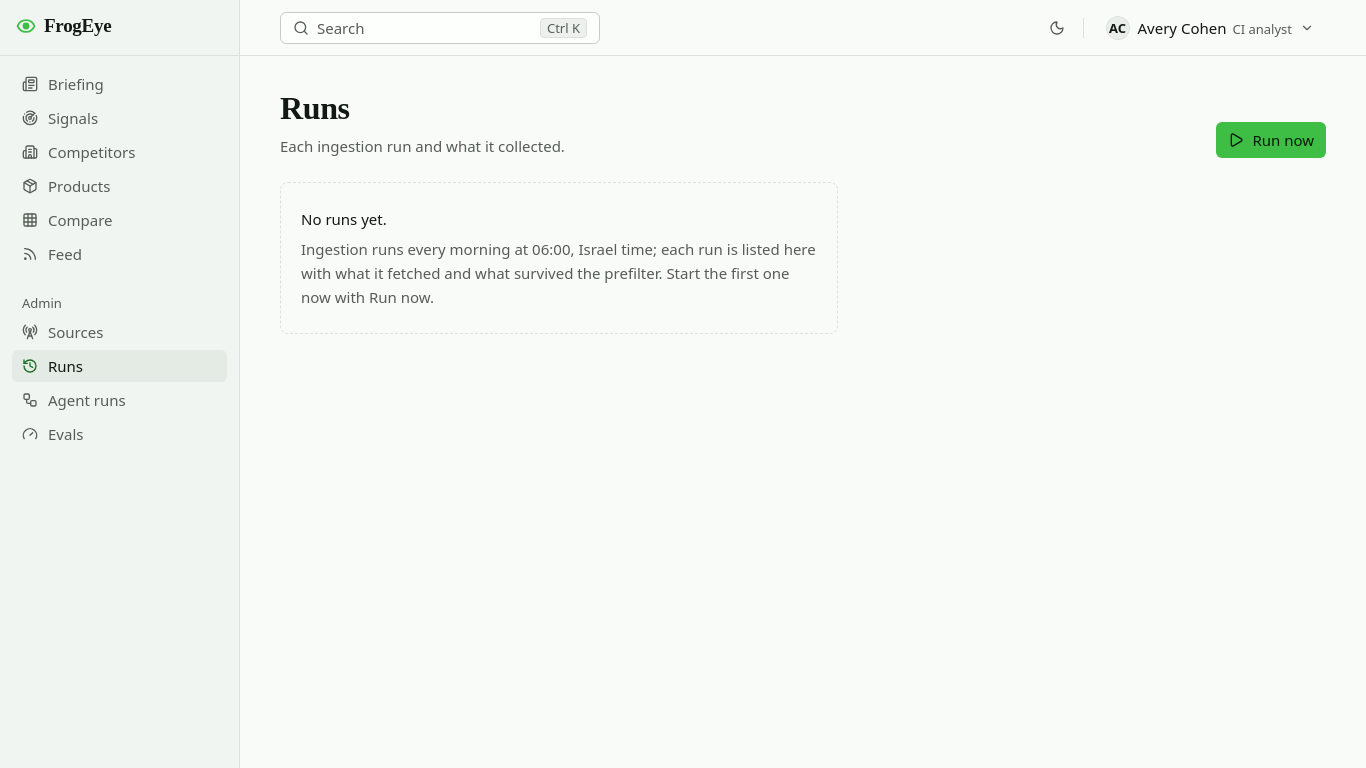
Test: Run now shows the cooldown message from a 429
What coordinates should you click on to do the following:
click the button "Run now"
I would click on:
 (1271, 140)
Its box is left=1216, top=122, right=1326, bottom=158.
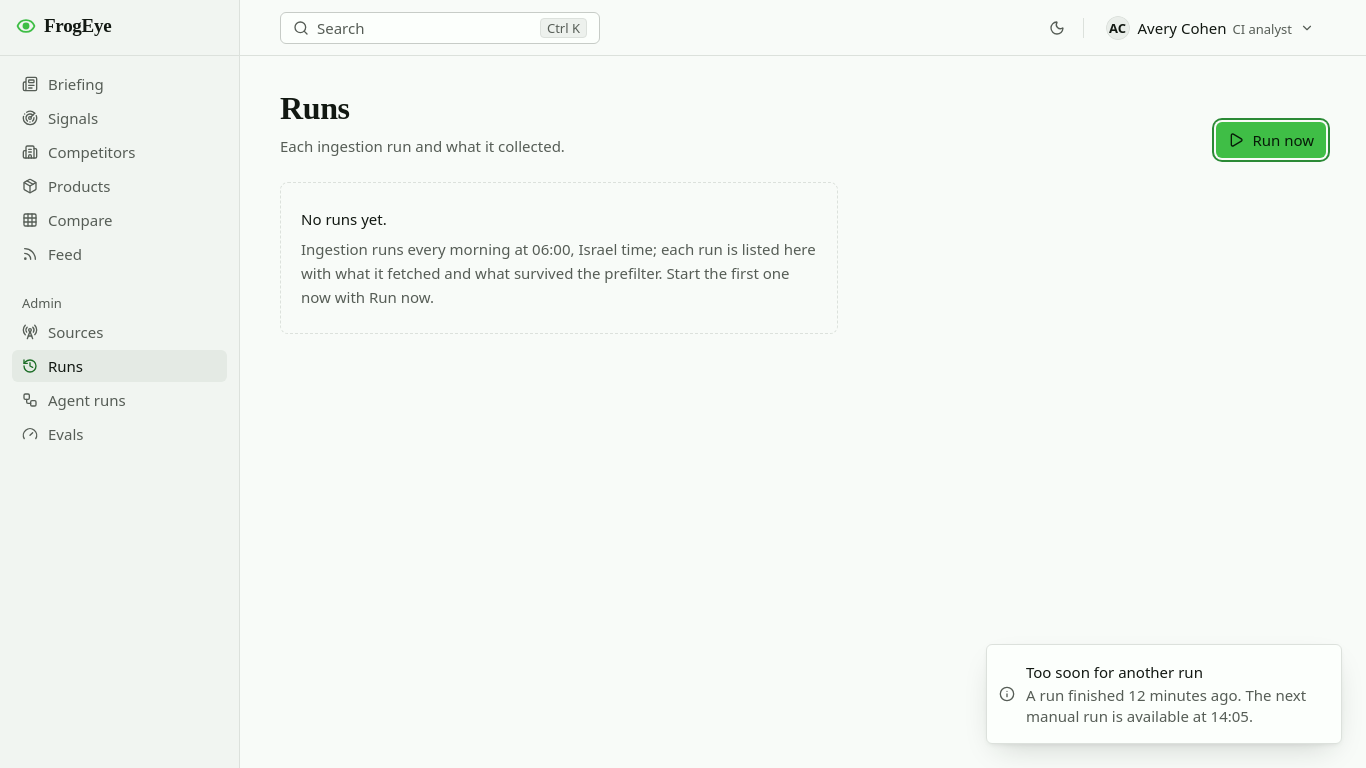
Now the text "A run finished 12 minutes ago. The next manual run is available at 14:05." is shown, box left=1026, top=685, right=1325, bottom=727
